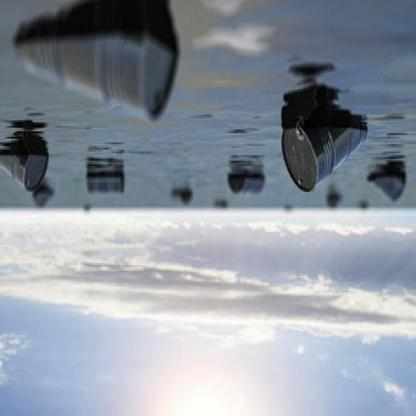can: (13, 27, 177, 119), (281, 120, 370, 190), (5, 149, 50, 189), (223, 172, 265, 193)
